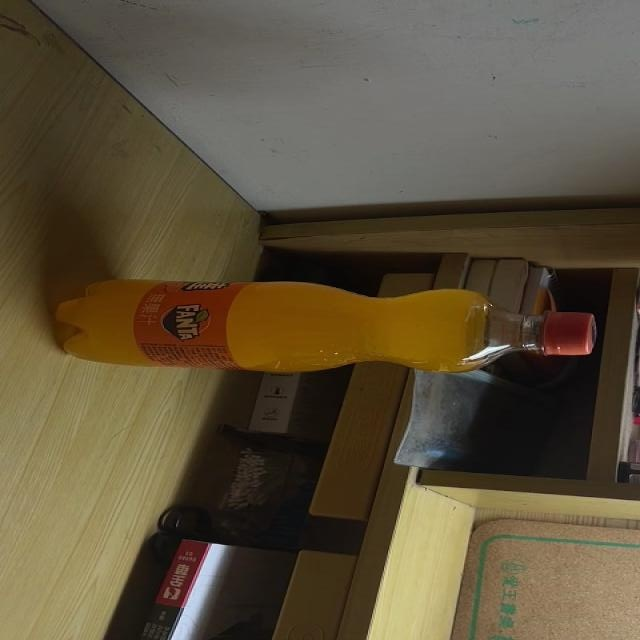Fanta: (54, 279, 597, 372)
